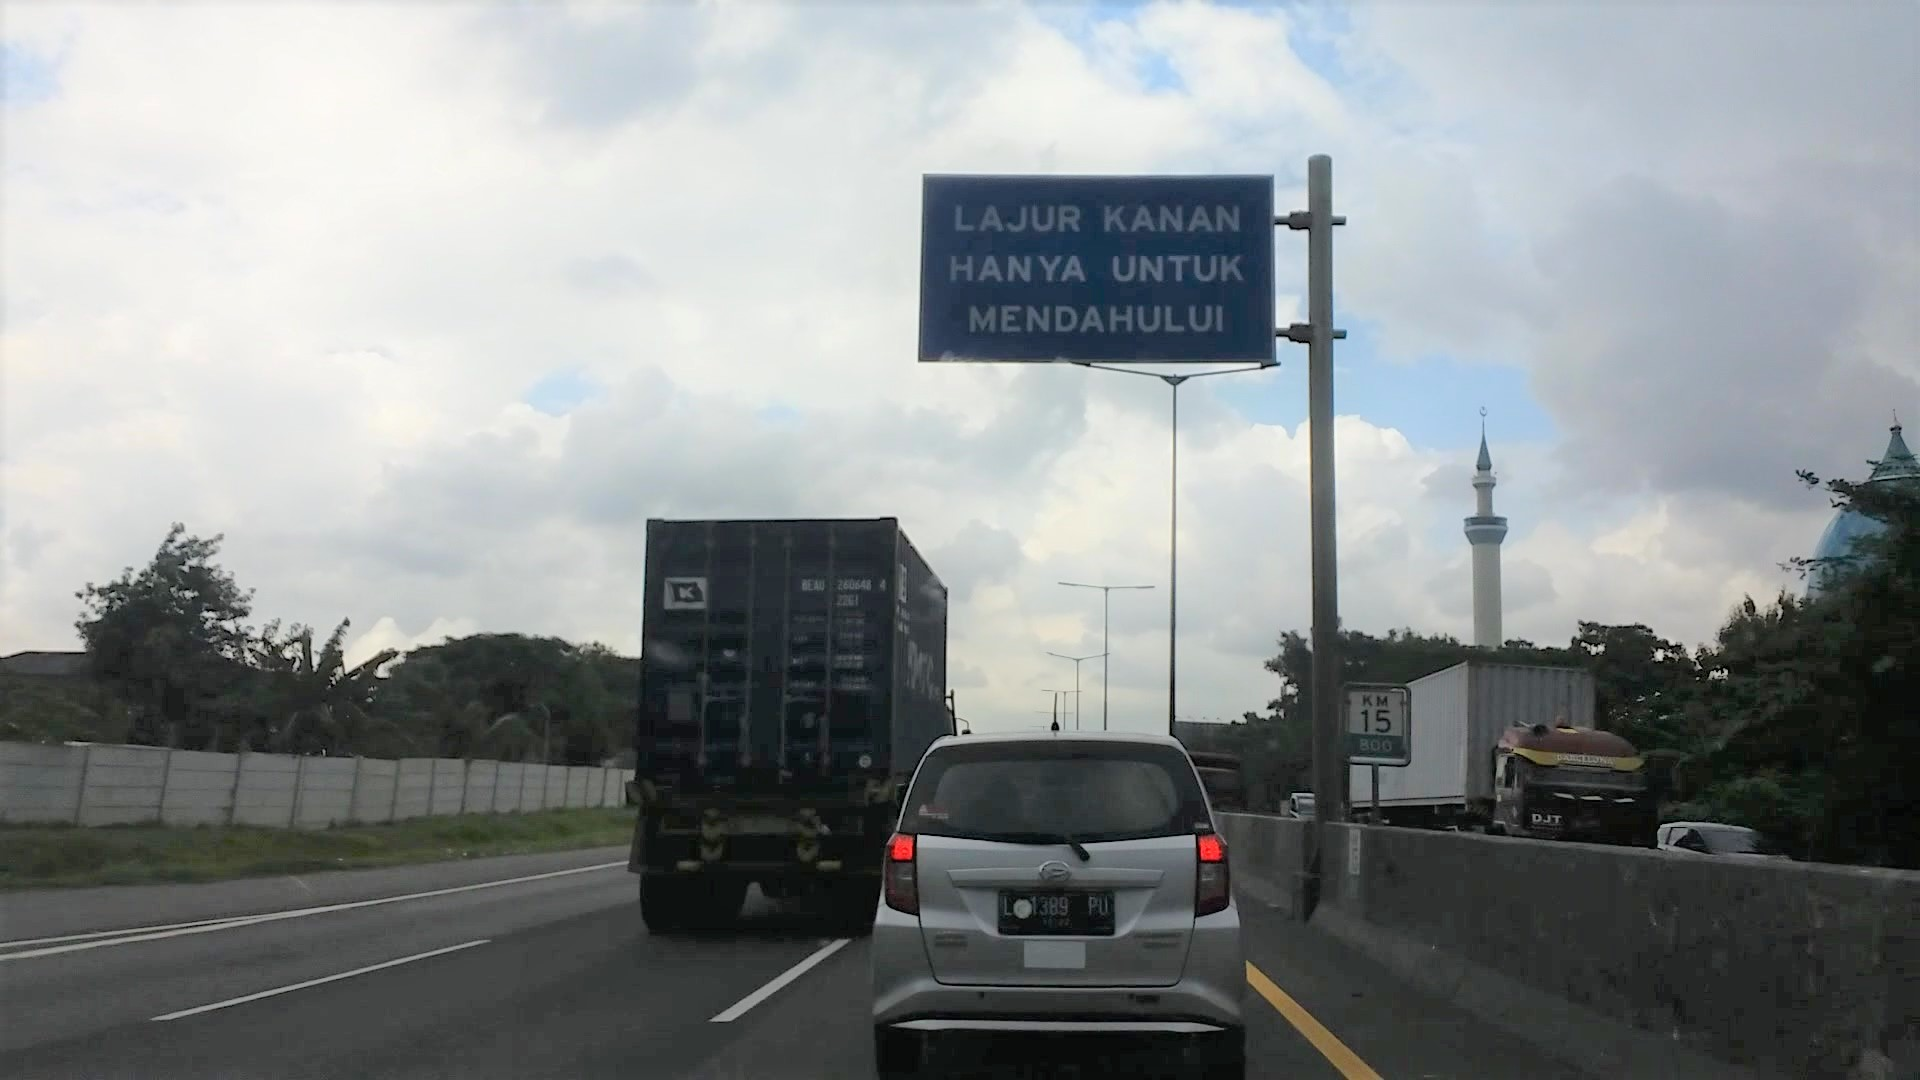plate_positive: (998, 890, 1116, 935)
